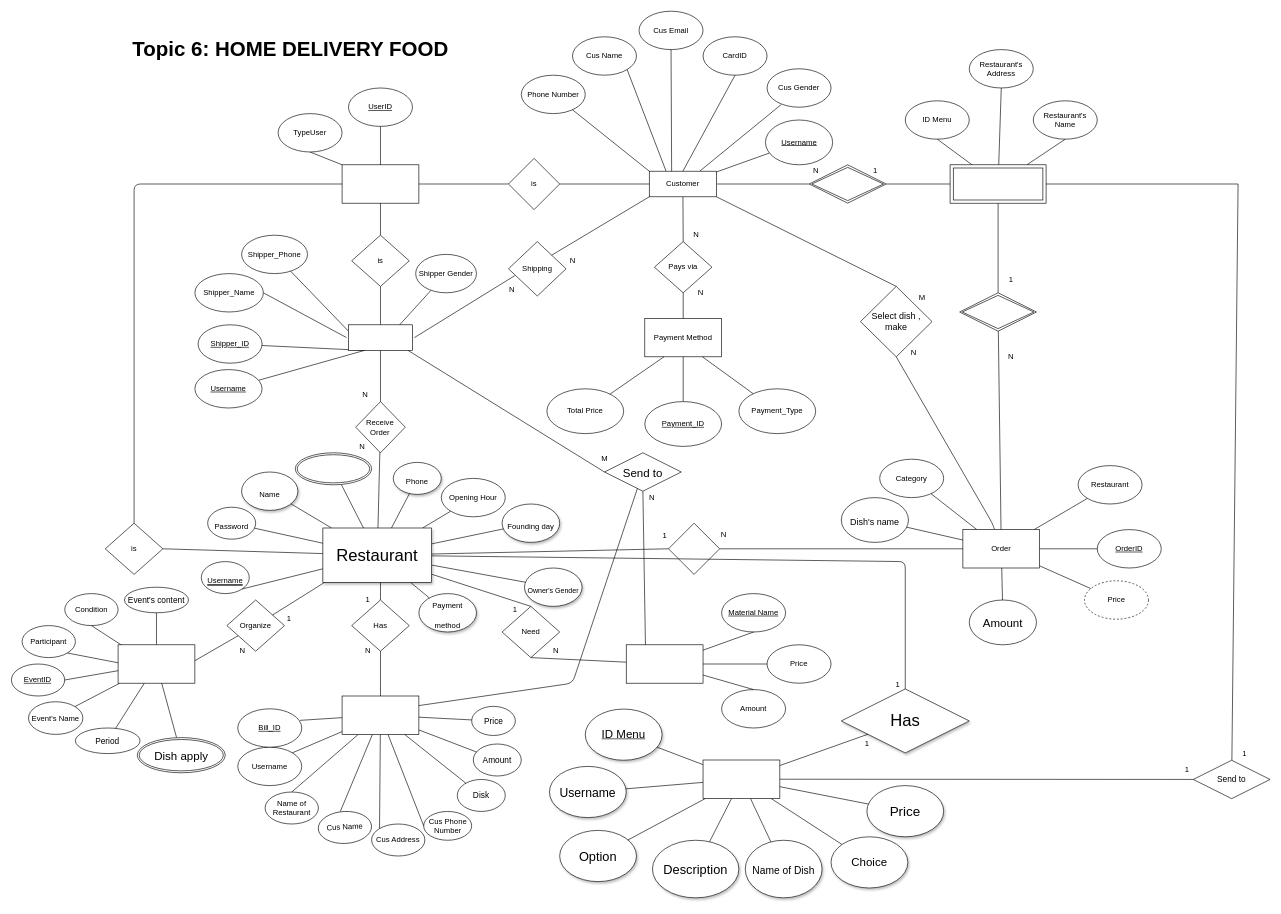
This 1281x914 diagram has some shape labels left out. Each missing label, with the centre of its shape:
"Address" goes at pixel 333 468.
"Based on" goes at pixel 997 311.
"Delivery Info" goes at pixel 380 714.
"Event" goes at pixel 156 663.
"Material" goes at pixel 664 663.
"Menu" goes at pixel 741 778.
"Menu App" goes at pixel 997 183.
"Receive" goes at pixel 694 548.
"Shipper" goes at pixel 380 337.
"Use" goes at pixel 847 183.
"User" goes at pixel 380 183.
